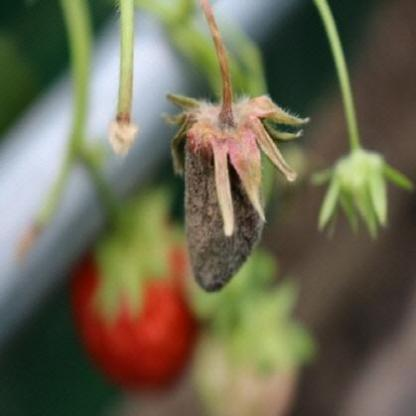Strawberry_Gray_Mold: (160, 66, 310, 293)
